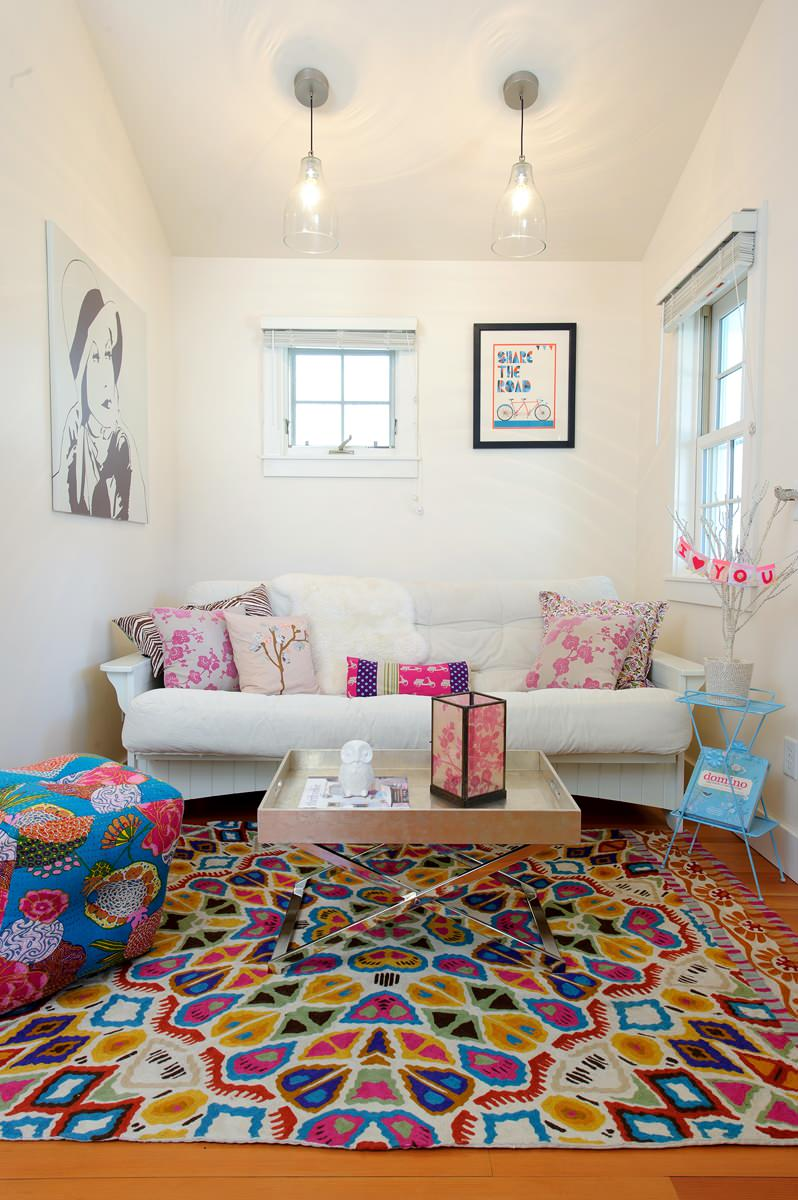biru: (693, 746, 776, 844)
putih: (101, 573, 690, 750), (312, 739, 402, 805)
